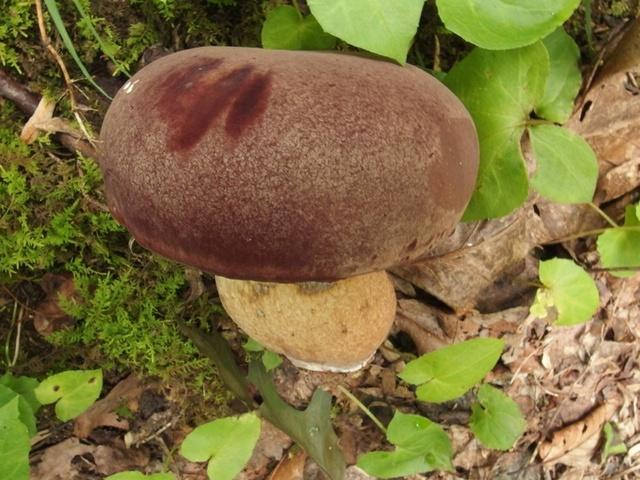poisonous_mushroom: (94, 44, 481, 374)
